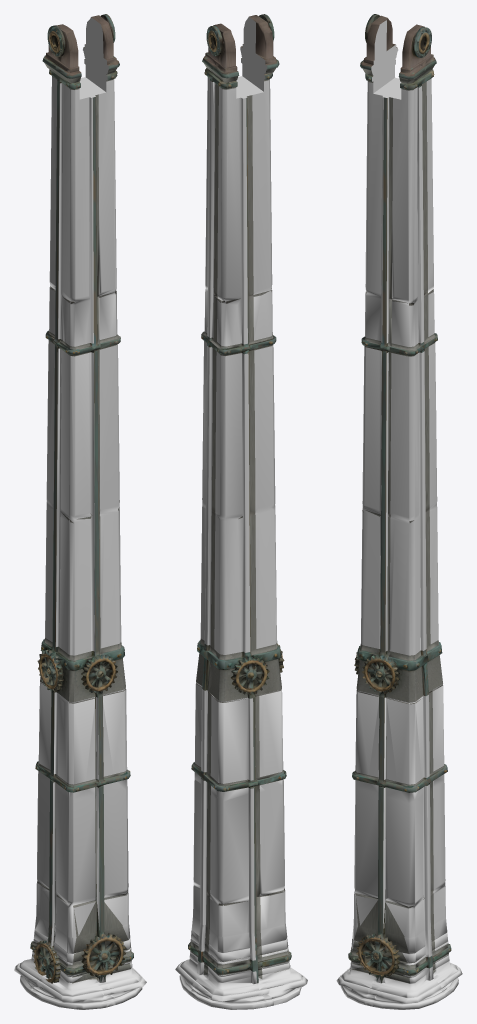
Rendered from HunyuanPivotTower.fbx.
3 views of the same model, side by side, from view 1: azimuth 30°, elevation 25°; view 2: azimuth 210°, elevation 25°; view 3: azimuth 330°, elevation 25° (orthographic).
Parts seen in each view (by area): view 1: HunyuanPivotTower_LOD0; view 2: HunyuanPivotTower_LOD0; view 3: HunyuanPivotTower_LOD0.
Boxes of the visible parts, <box> form: HunyuanPivotTower_LOD0: <box>14,14,146,1009</box>; HunyuanPivotTower_LOD0: <box>175,14,307,1009</box>; HunyuanPivotTower_LOD0: <box>336,14,462,1009</box>.
Size of what is drawn, in the model's own units: 5.41 by 50.77 by 5.7.
Materials: 3 (1 with a texture image).
